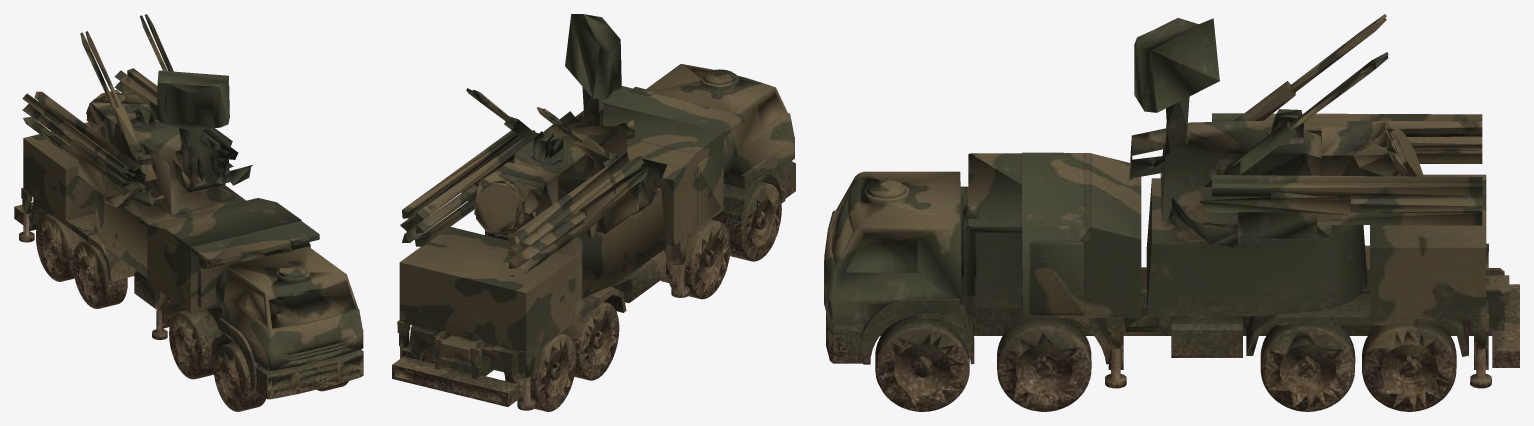
The model's file is sam_pantsir.glb.
3 renders of one model, left to right at view 1: azimuth 30°, elevation 25°; view 2: azimuth 150°, elevation 25°; view 3: azimuth 270°, elevation 25°, orthographic. The views are drawn at different scales.
Visible parts, largest first — view 1: Pantsir_25_05_21_Fahrgestell; view 2: Pantsir_25_05_21_Fahrgestell; view 3: Pantsir_25_05_21_Fahrgestell.
Boxes of the visible parts, bbox=[...] form: Pantsir_25_05_21_Fahrgestell: bbox=[14, 14, 363, 411]; Pantsir_25_05_21_Fahrgestell: bbox=[392, 14, 795, 411]; Pantsir_25_05_21_Fahrgestell: bbox=[824, 14, 1519, 411].
Size of the model in its own units: 2.53 by 4.95 by 9.
Materials: 1 (1 with a texture image).
